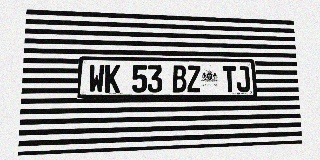3: (148, 65, 162, 93)
5: (132, 65, 147, 93)
B: (172, 65, 187, 92)
J: (236, 66, 250, 92)
K: (105, 65, 120, 93)
T: (222, 66, 237, 92)
W: (88, 64, 105, 93)
Z: (187, 65, 201, 92)
